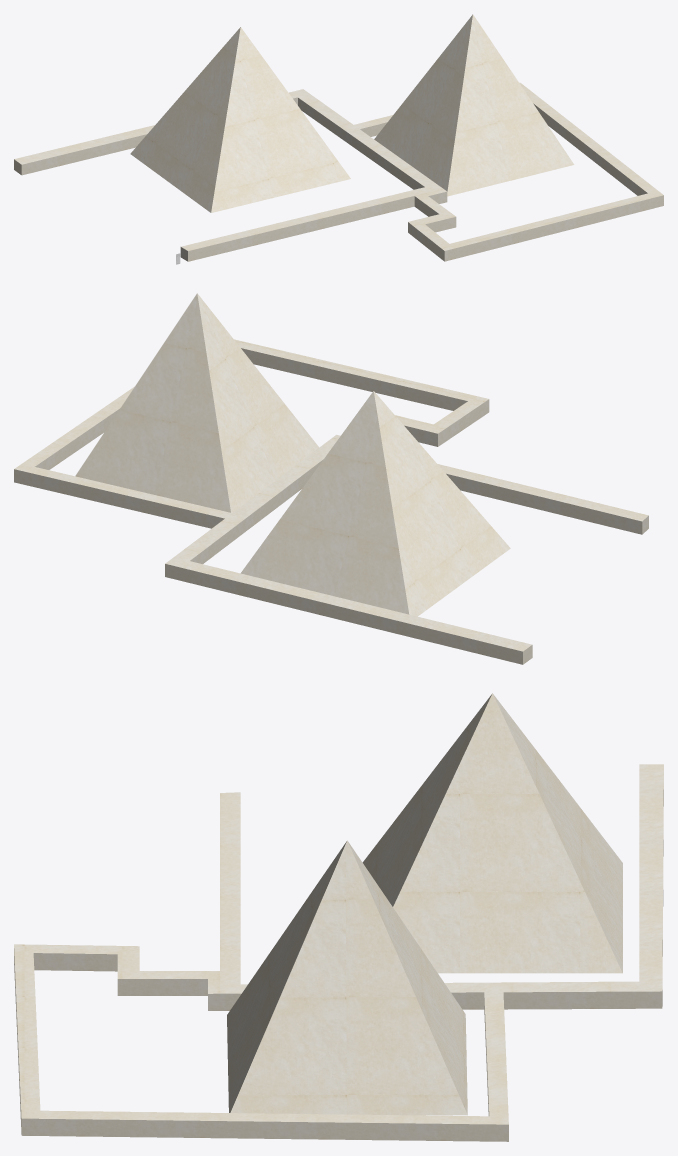
The model's file is Khuit_Iput.glb.
The picture shows the model from 3 angles, top to bottom: view 1: azimuth 30°, elevation 25°; view 2: azimuth 150°, elevation 25°; view 3: azimuth 270°, elevation 25°; orthographic projection. The views are drawn at different scales.
Parts seen in each view (by area): view 1: Mesh1 Model, Mesh2 Model, Mesh3 Model; view 2: Mesh1 Model, Mesh3 Model, Mesh2 Model; view 3: Mesh1 Model, Mesh2 Model, Mesh3 Model.
Boxes of the visible parts, x1=… form: Mesh1 Model: x1=130, y1=27, x2=350, y2=212; Mesh2 Model: x1=374, y1=14, x2=574, y2=196; Mesh3 Model: x1=14, y1=82, x2=663, y2=261; Mesh1 Model: x1=240, y1=391, x2=510, y2=616; Mesh3 Model: x1=14, y1=339, x2=648, y2=664; Mesh2 Model: x1=75, y1=293, x2=318, y2=512; Mesh1 Model: x1=362, y1=693, x2=622, y2=973; Mesh2 Model: x1=227, y1=840, x2=467, y2=1115; Mesh3 Model: x1=14, y1=764, x2=663, y2=1141.
Size of the model in its own units: 68.69 by 20 by 52.39.
2 materials, 2 textured.
